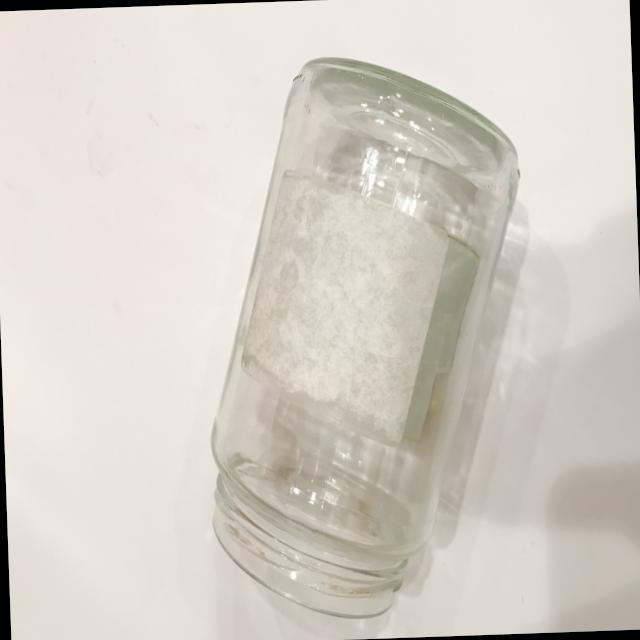Glass: (183, 32, 544, 630)
